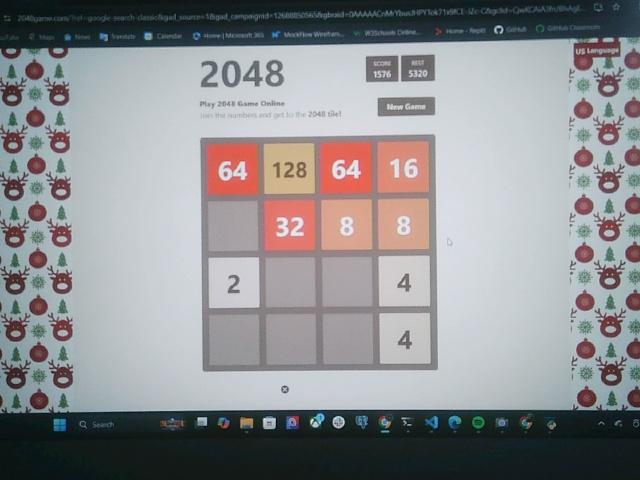best_score_box: (401, 55, 435, 82)
button: (378, 97, 435, 116)
score_box: (366, 55, 398, 82)
